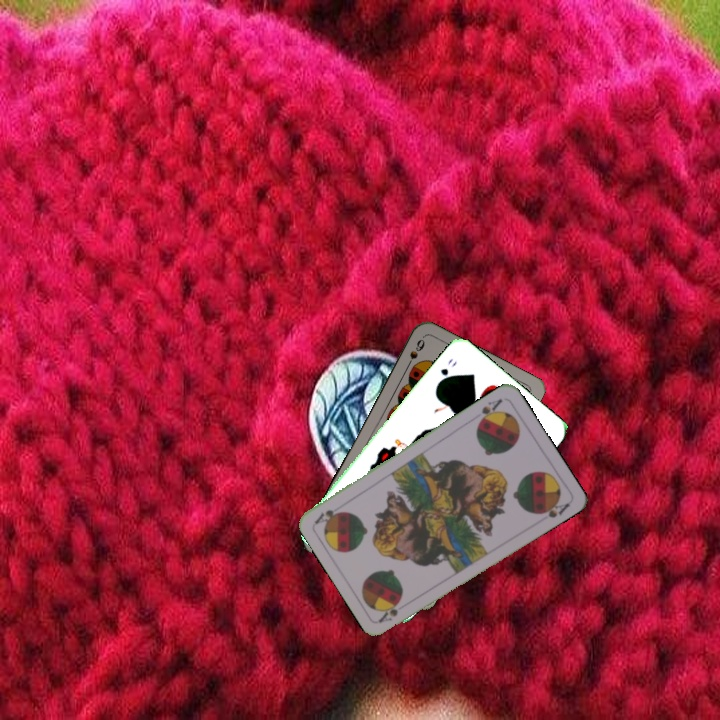GO: (434, 355, 460, 387)
S9: (402, 335, 427, 372)
SA: (474, 394, 505, 427), (375, 597, 403, 625)
